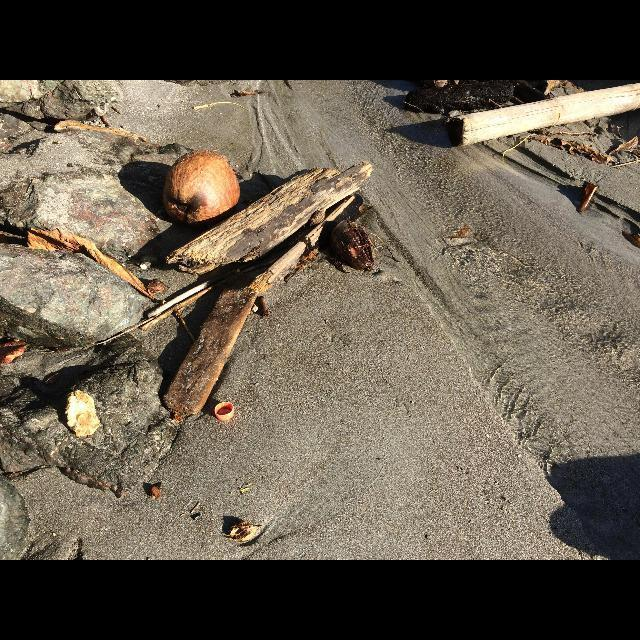Plastic: (214, 402, 233, 420)
